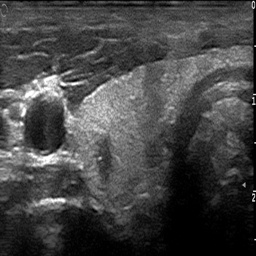mass: (96, 139, 114, 176)
